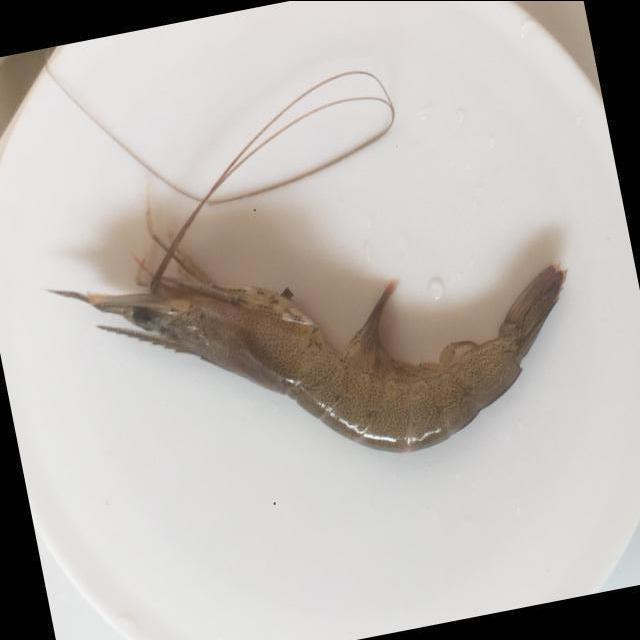shrimp: (53, 265, 566, 452)
